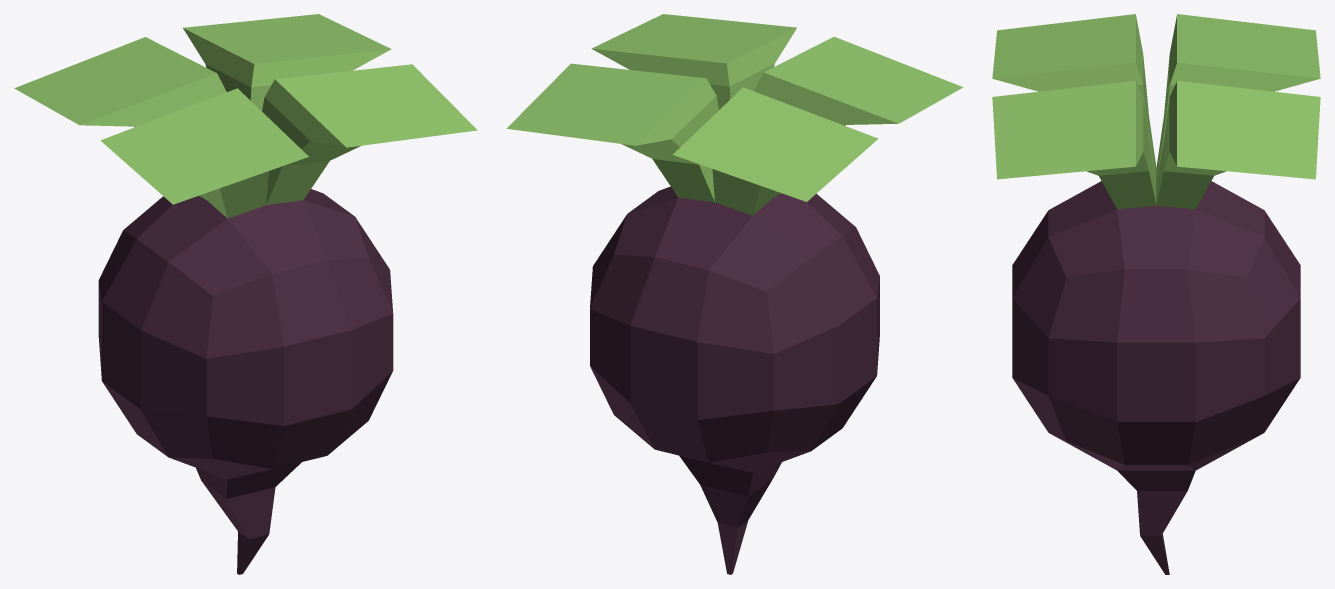
The model's file is Turnip.fbx.
3 views of the same model, side by side, from view 1: azimuth 30°, elevation 25°; view 2: azimuth 150°, elevation 25°; view 3: azimuth 270°, elevation 25° (orthographic).
Parts seen in each view (by area): view 1: Turnip; view 2: Turnip; view 3: Turnip.
Part boxes in pixels (bbox=[...]): Turnip: bbox=[14, 14, 477, 574]; Turnip: bbox=[506, 14, 963, 574]; Turnip: bbox=[992, 14, 1320, 574].
Size of the model in its own units: 145 by 223 by 132.
